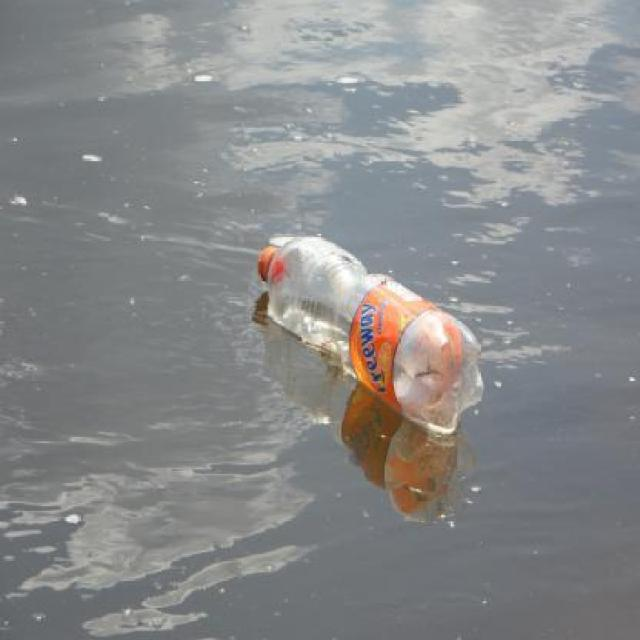bottle: (228, 190, 494, 472)
